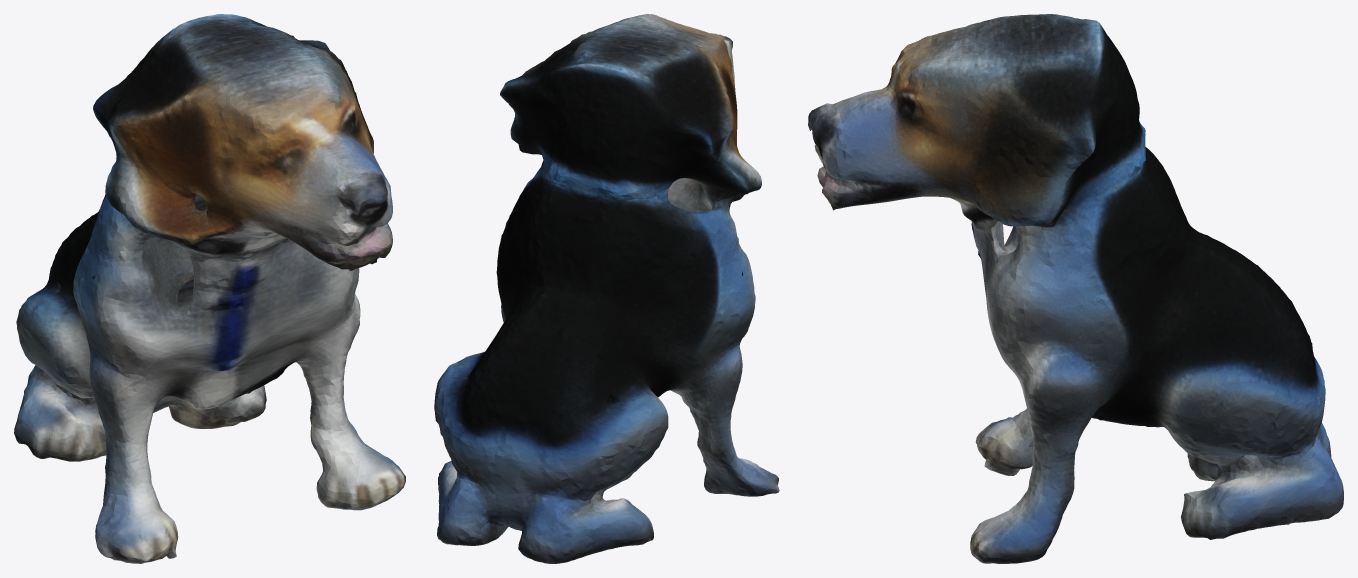
The picture shows the model from 3 angles, left to right: view 1: azimuth 30°, elevation 25°; view 2: azimuth 150°, elevation 25°; view 3: azimuth 270°, elevation 25°; orthographic projection. The views are drawn at different scales.
Size of the model in its own units: 0.618 by 0.9709 by 0.976.
Materials: 1 (1 with a texture image).
